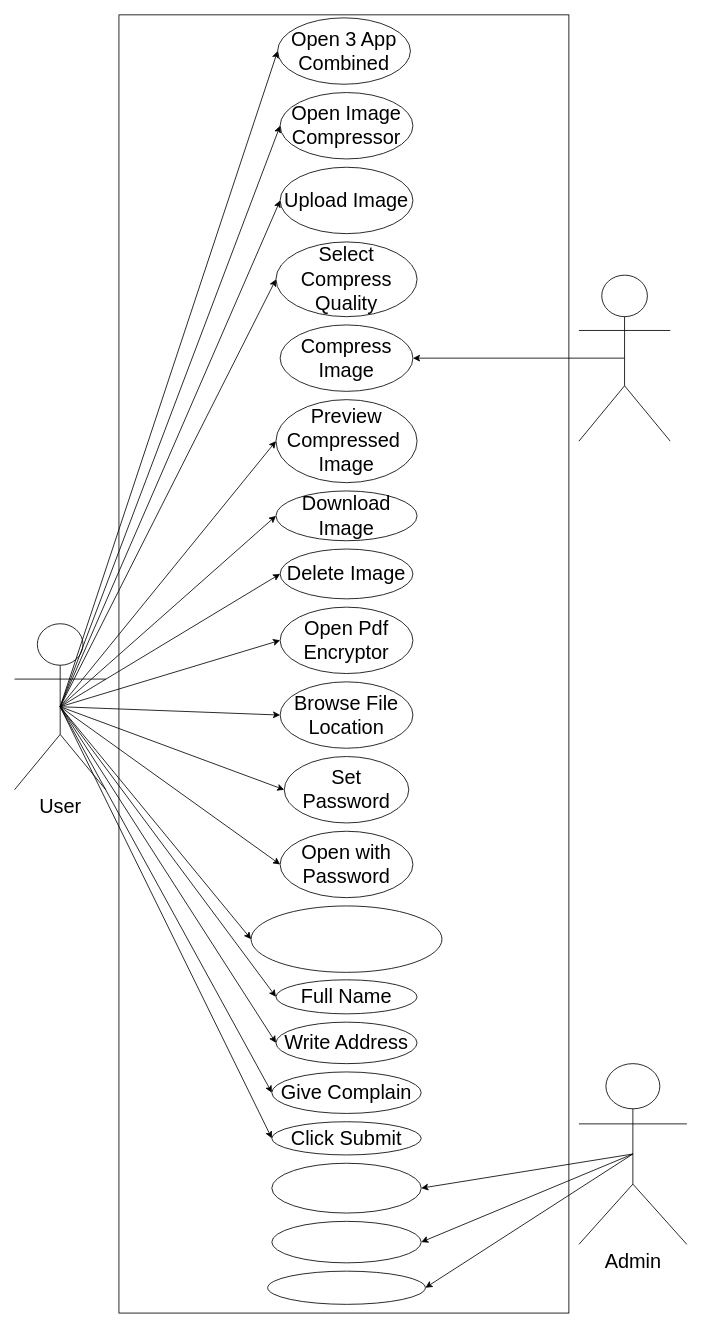
Some shapes in this 701 by 1328 pixel diagram are drawn without their labels. Here are the shapes that lost their labels. From the top down, the centre of each, then its label:
At (x=624, y=357): "System".
At (x=346, y=938): "Open Complaint Management".
At (x=346, y=1187): "Oversee System".
At (x=346, y=1242): "Manage Users".
At (x=346, y=1287): "Create Report".
